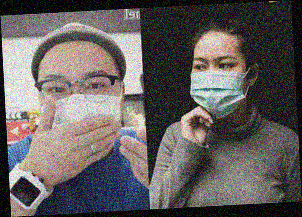with_mask: (36, 70, 123, 139), (189, 54, 248, 122)
